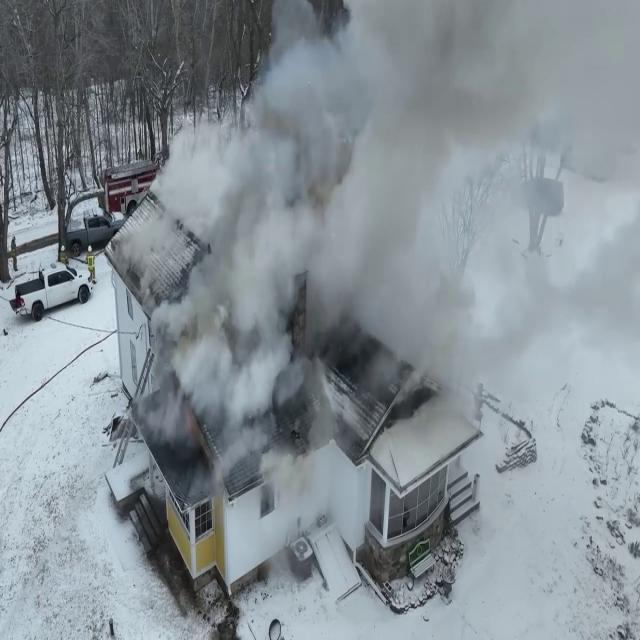Smoke: (145, 0, 597, 499)
